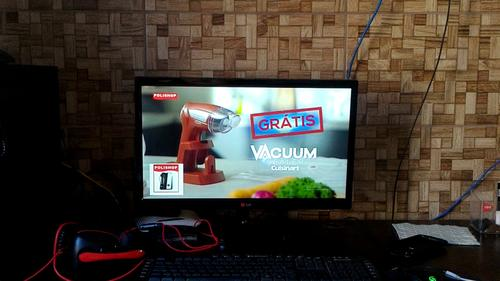Polishop #1: (149, 162, 184, 196)
